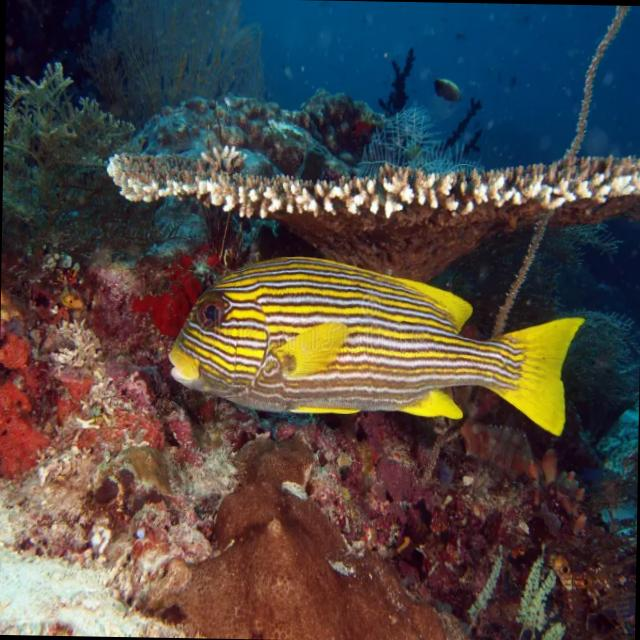RibbonedSweetlips: (164, 250, 586, 437)
